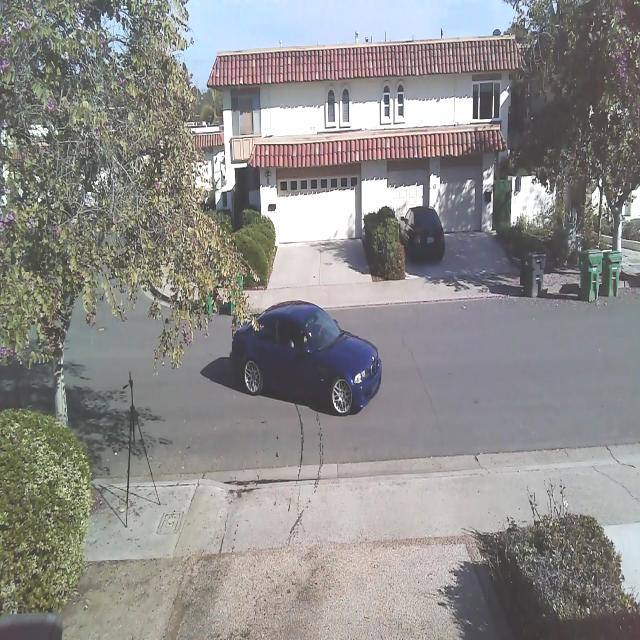Carbeetle: (225, 292, 386, 426)
Civilian: (399, 205, 446, 264)
